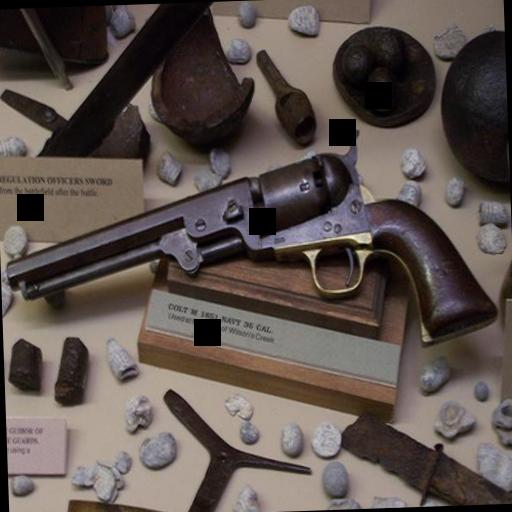Handgun: (0, 122, 493, 353)
